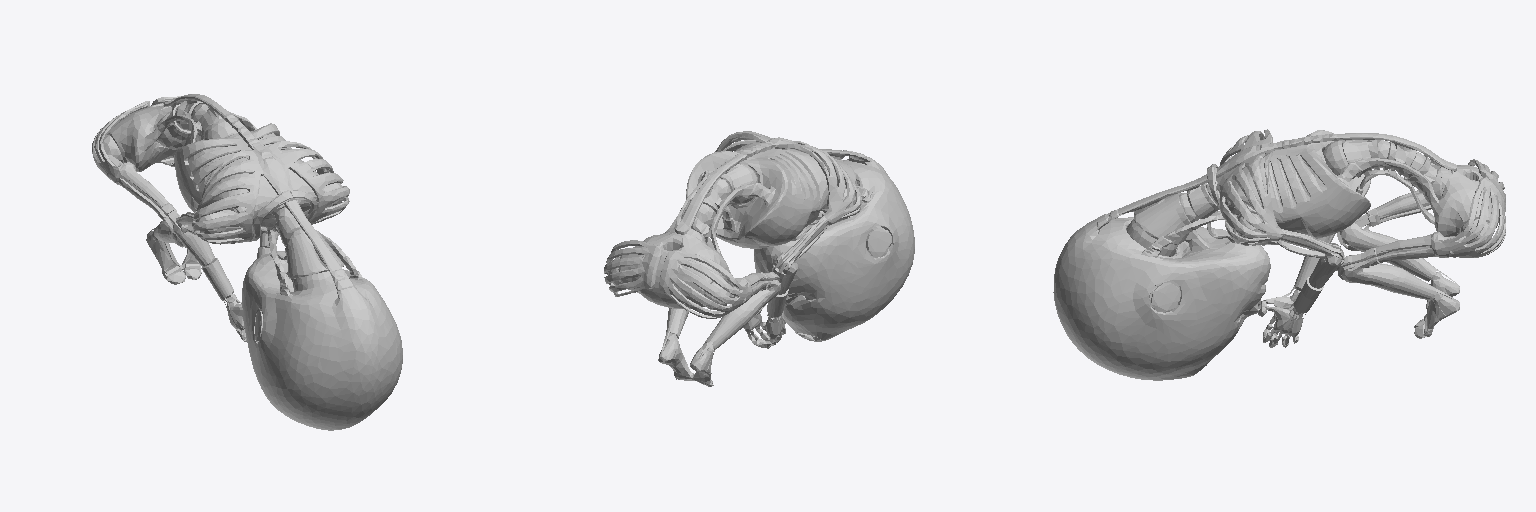
File: embryon_20000.obj
3 views of the same model, side by side, from view 1: azimuth 30°, elevation 25°; view 2: azimuth 150°, elevation 25°; view 3: azimuth 270°, elevation 25° (orthographic).
Size of the model in its own units: 6.65 by 10.1 by 16.95.